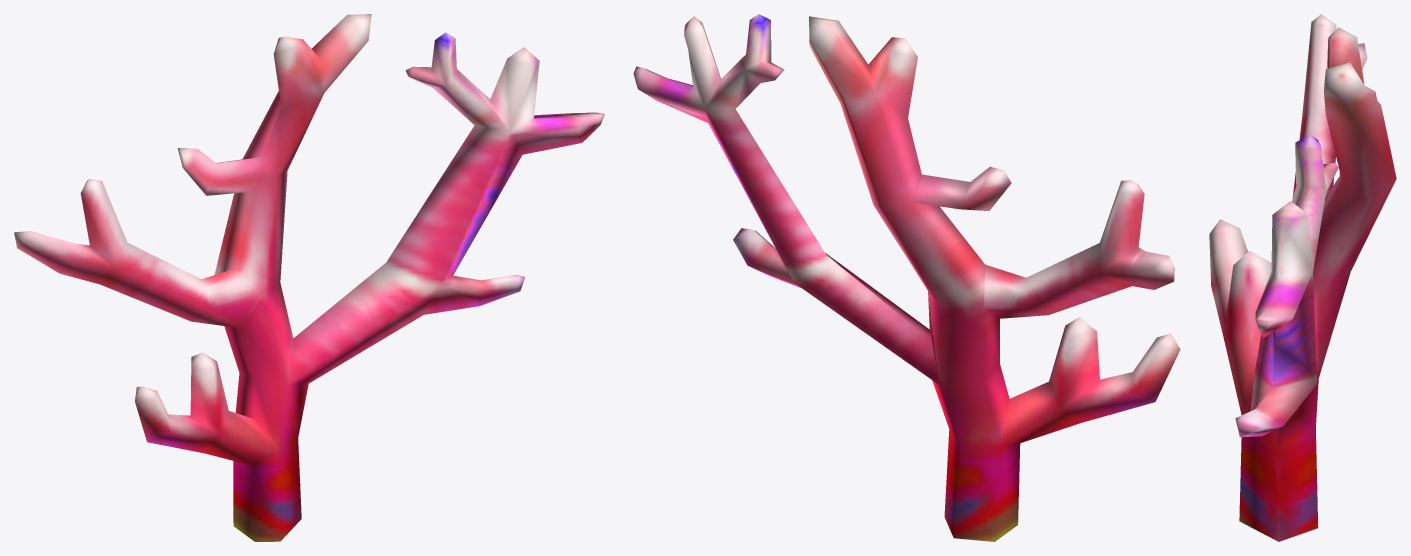
File: Sea_shanhu03.FBX
The picture shows the model from 3 angles, left to right: view 1: azimuth 30°, elevation 25°; view 2: azimuth 150°, elevation 25°; view 3: azimuth 270°, elevation 25°; orthographic projection. The views are drawn at different scales.
Parts seen in each view (by area): view 1: objLine01; view 2: objLine01; view 3: objLine01.
Boxes of the visible parts, <box> form: objLine01: <box>14,14,604,541</box>; objLine01: <box>633,14,1180,541</box>; objLine01: <box>1209,14,1396,541</box>.
Bounding box in the file's own units: 55.99 × 45.57 × 14.79.
